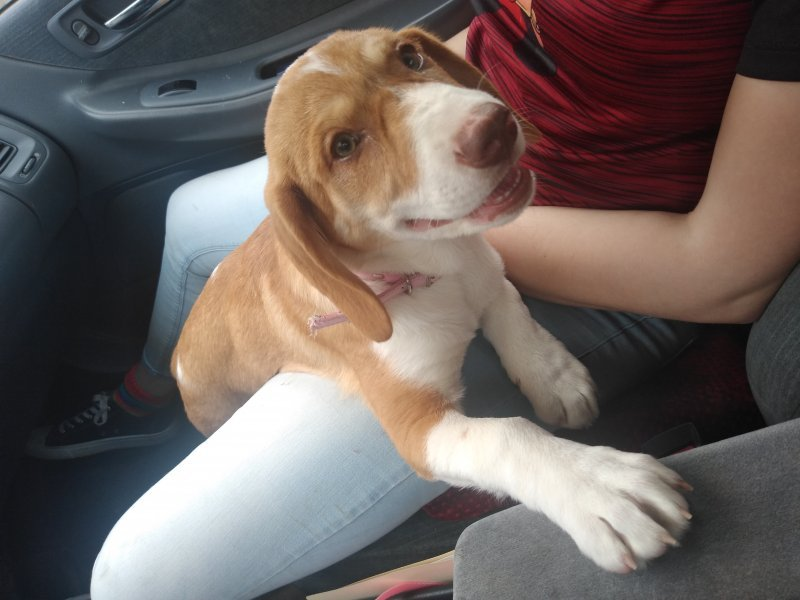dog: (169, 27, 699, 577)
